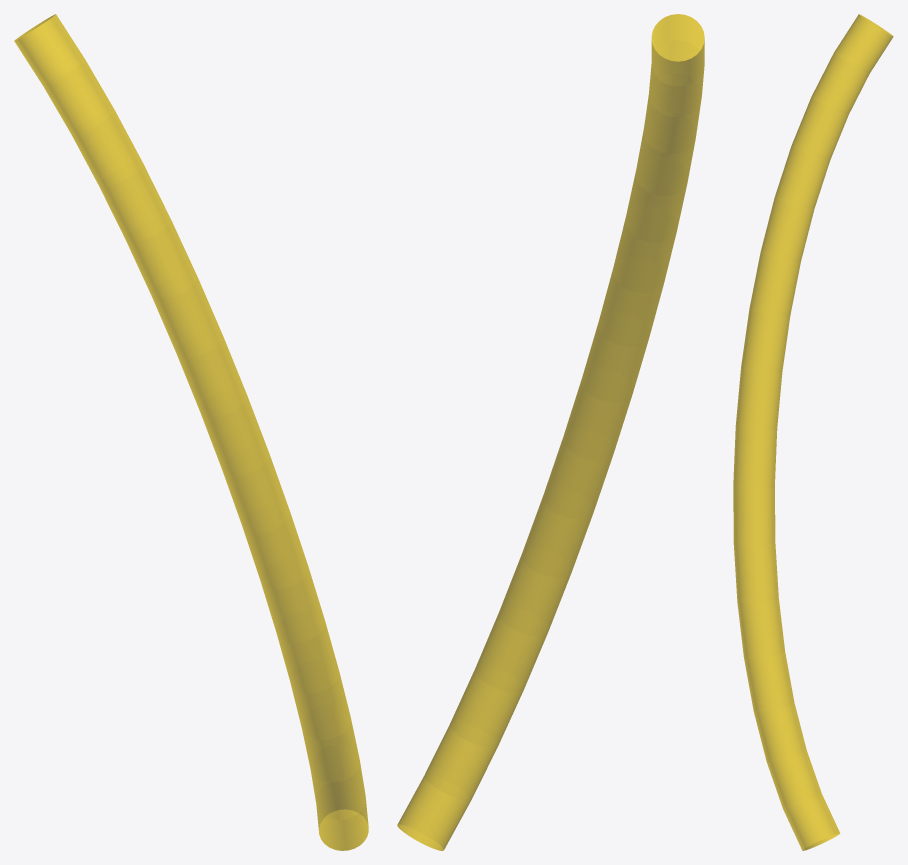
File: Event_15818458_track_63.fbx
3 renders of one model, left to right at view 1: azimuth 30°, elevation 25°; view 2: azimuth 150°, elevation 25°; view 3: azimuth 270°, elevation 25°, orthographic. The views are drawn at different scales.
Visible parts, largest first — view 1: Model; view 2: Model; view 3: Model.
Part boxes in pixels (x1,y1,x2,y2): Model: (14, 14, 368, 850); Model: (397, 14, 704, 850); Model: (733, 14, 893, 850).
Size of the model in its own units: 0.2919 by 0.767 by 0.1536.
